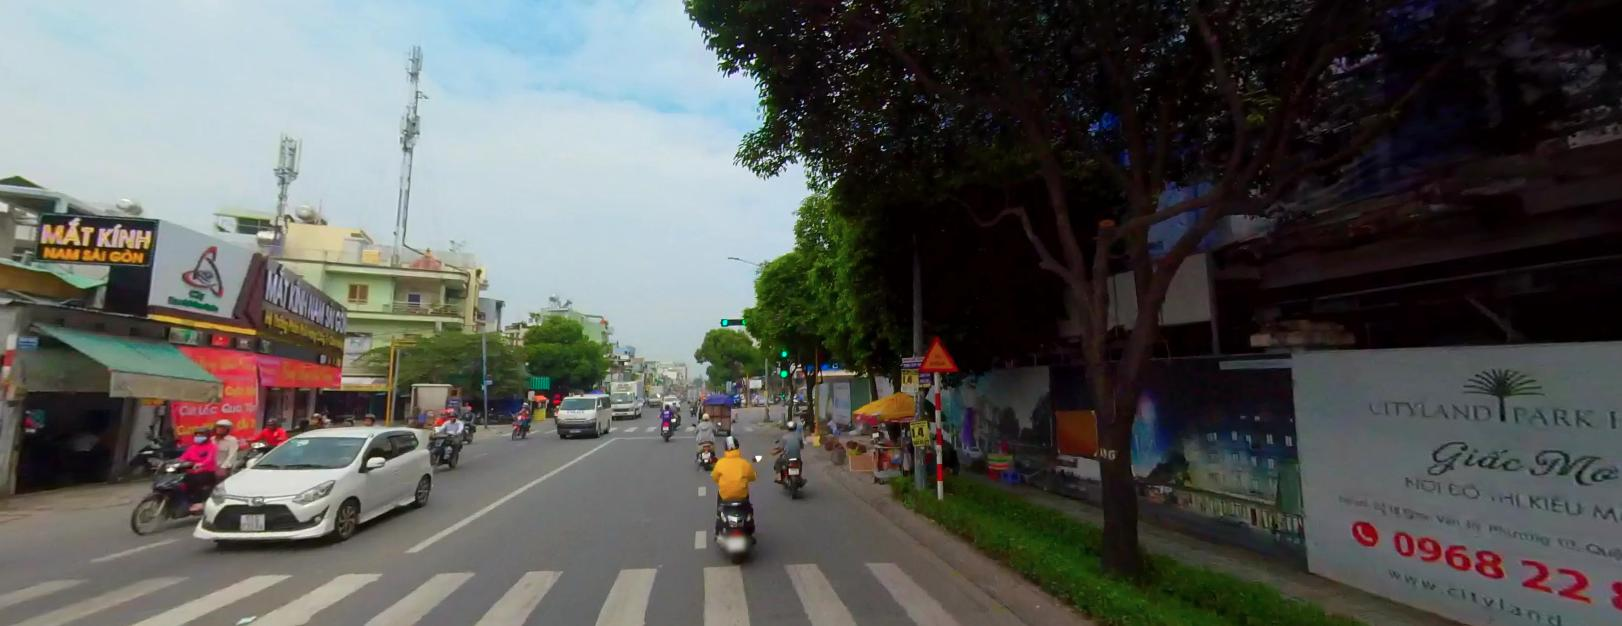Nguy hiem: (918, 334, 959, 371)
